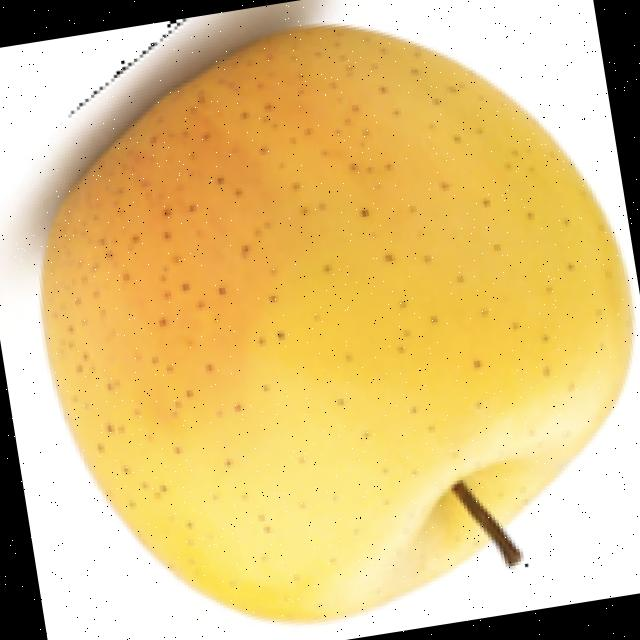apple: (1, 0, 640, 630)
